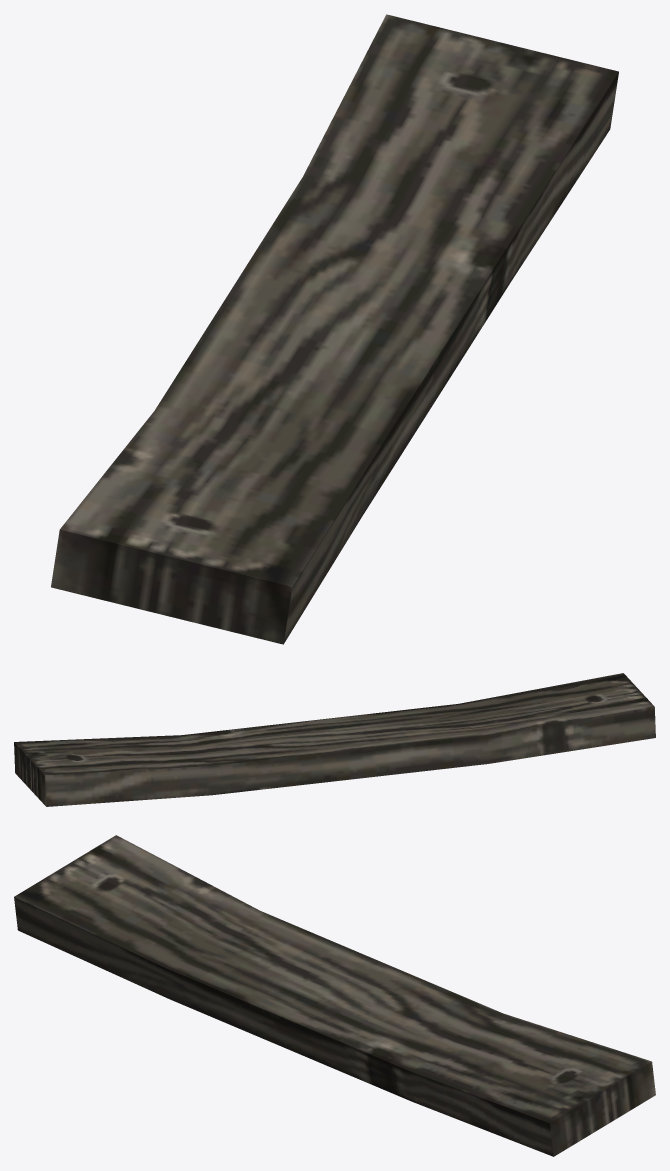
The model's file is ANIMATEDINSTANCES_BOARD_FALL5__BA.fbx.
3 views of the same model, one above another, from view 1: azimuth 30°, elevation 25°; view 2: azimuth 150°, elevation 25°; view 3: azimuth 270°, elevation 25° (orthographic). The views are drawn at different scales.
Parts seen in each view (by area): view 1: ANIMATEDINSTANCES_BOARD_FALL5__BA; view 2: ANIMATEDINSTANCES_BOARD_FALL5__BA; view 3: ANIMATEDINSTANCES_BOARD_FALL5__BA.
Boxes of the visible parts, x1,y1,x2,y2 form: ANIMATEDINSTANCES_BOARD_FALL5__BA: (51, 14, 618, 644); ANIMATEDINSTANCES_BOARD_FALL5__BA: (14, 673, 655, 806); ANIMATEDINSTANCES_BOARD_FALL5__BA: (14, 835, 655, 1156).
Size of the model in its own units: 15470 by 1666 by 15470.
1 material, 1 textured.
